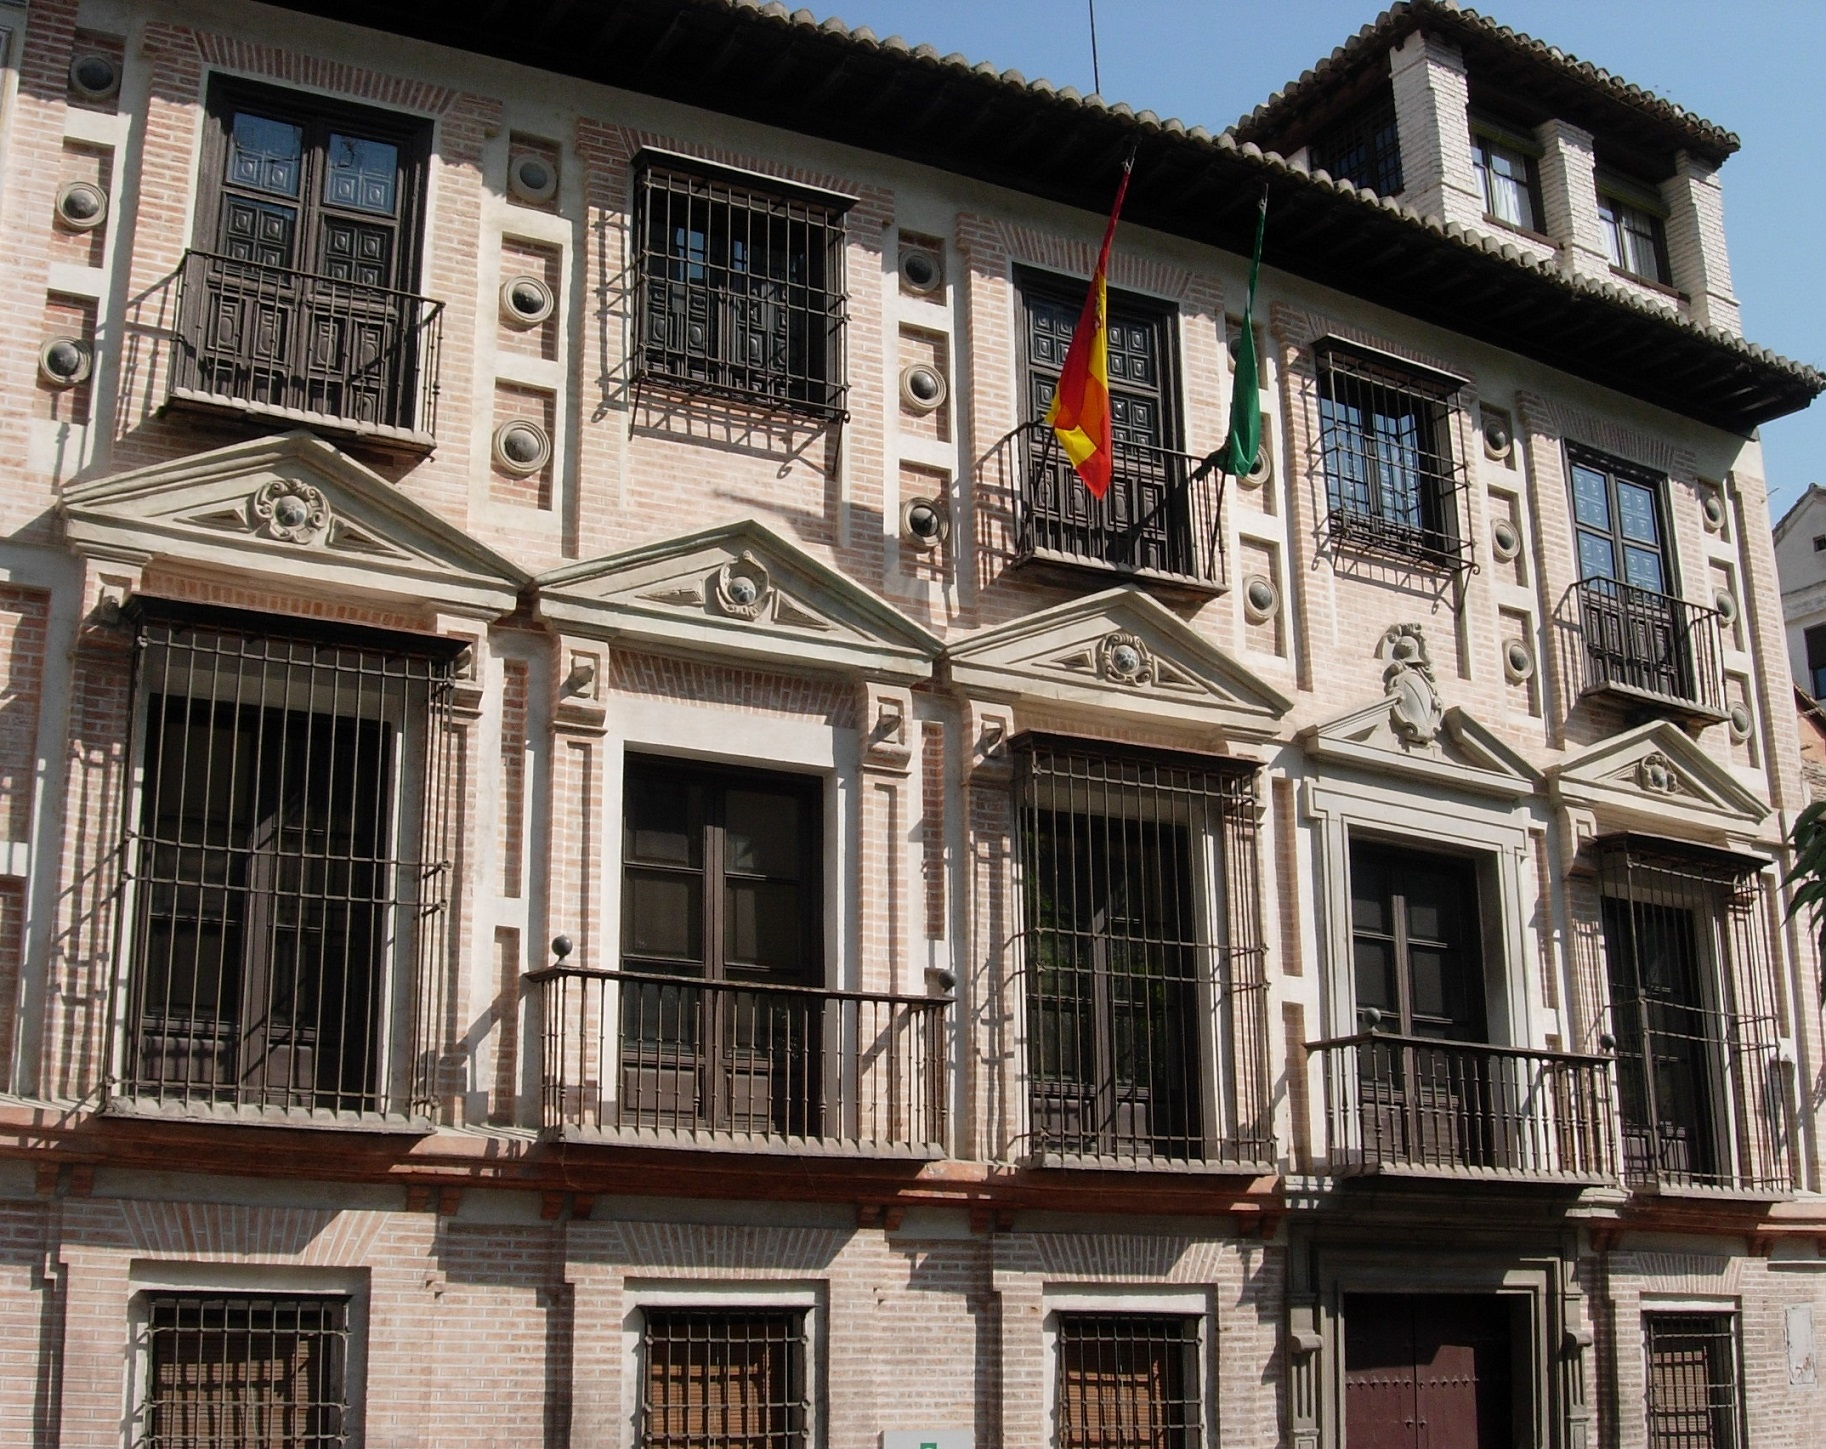fronton: (52, 424, 529, 622), (528, 517, 946, 689), (937, 572, 1297, 750), (1544, 713, 1779, 850)
fronton-partido: (1301, 689, 1541, 810)
vano-adintelado: (594, 710, 870, 1144), (166, 58, 458, 428), (1315, 810, 1543, 1175), (1000, 249, 1203, 579), (1547, 430, 1707, 704)
